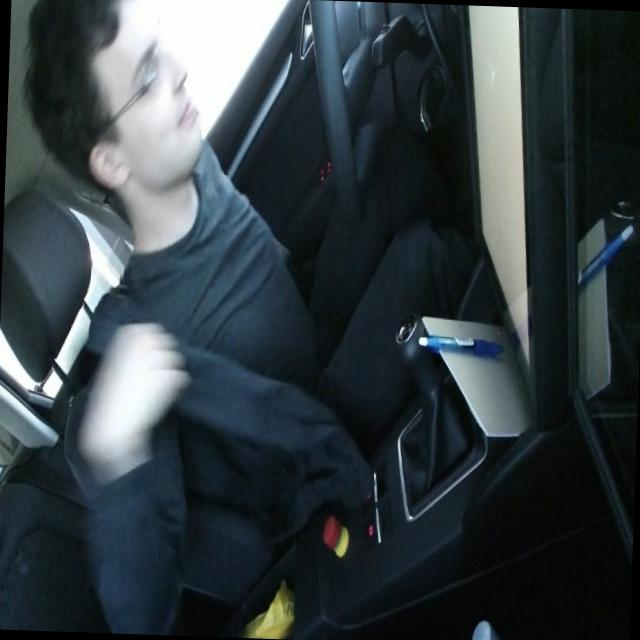pen: (416, 332, 503, 357)
